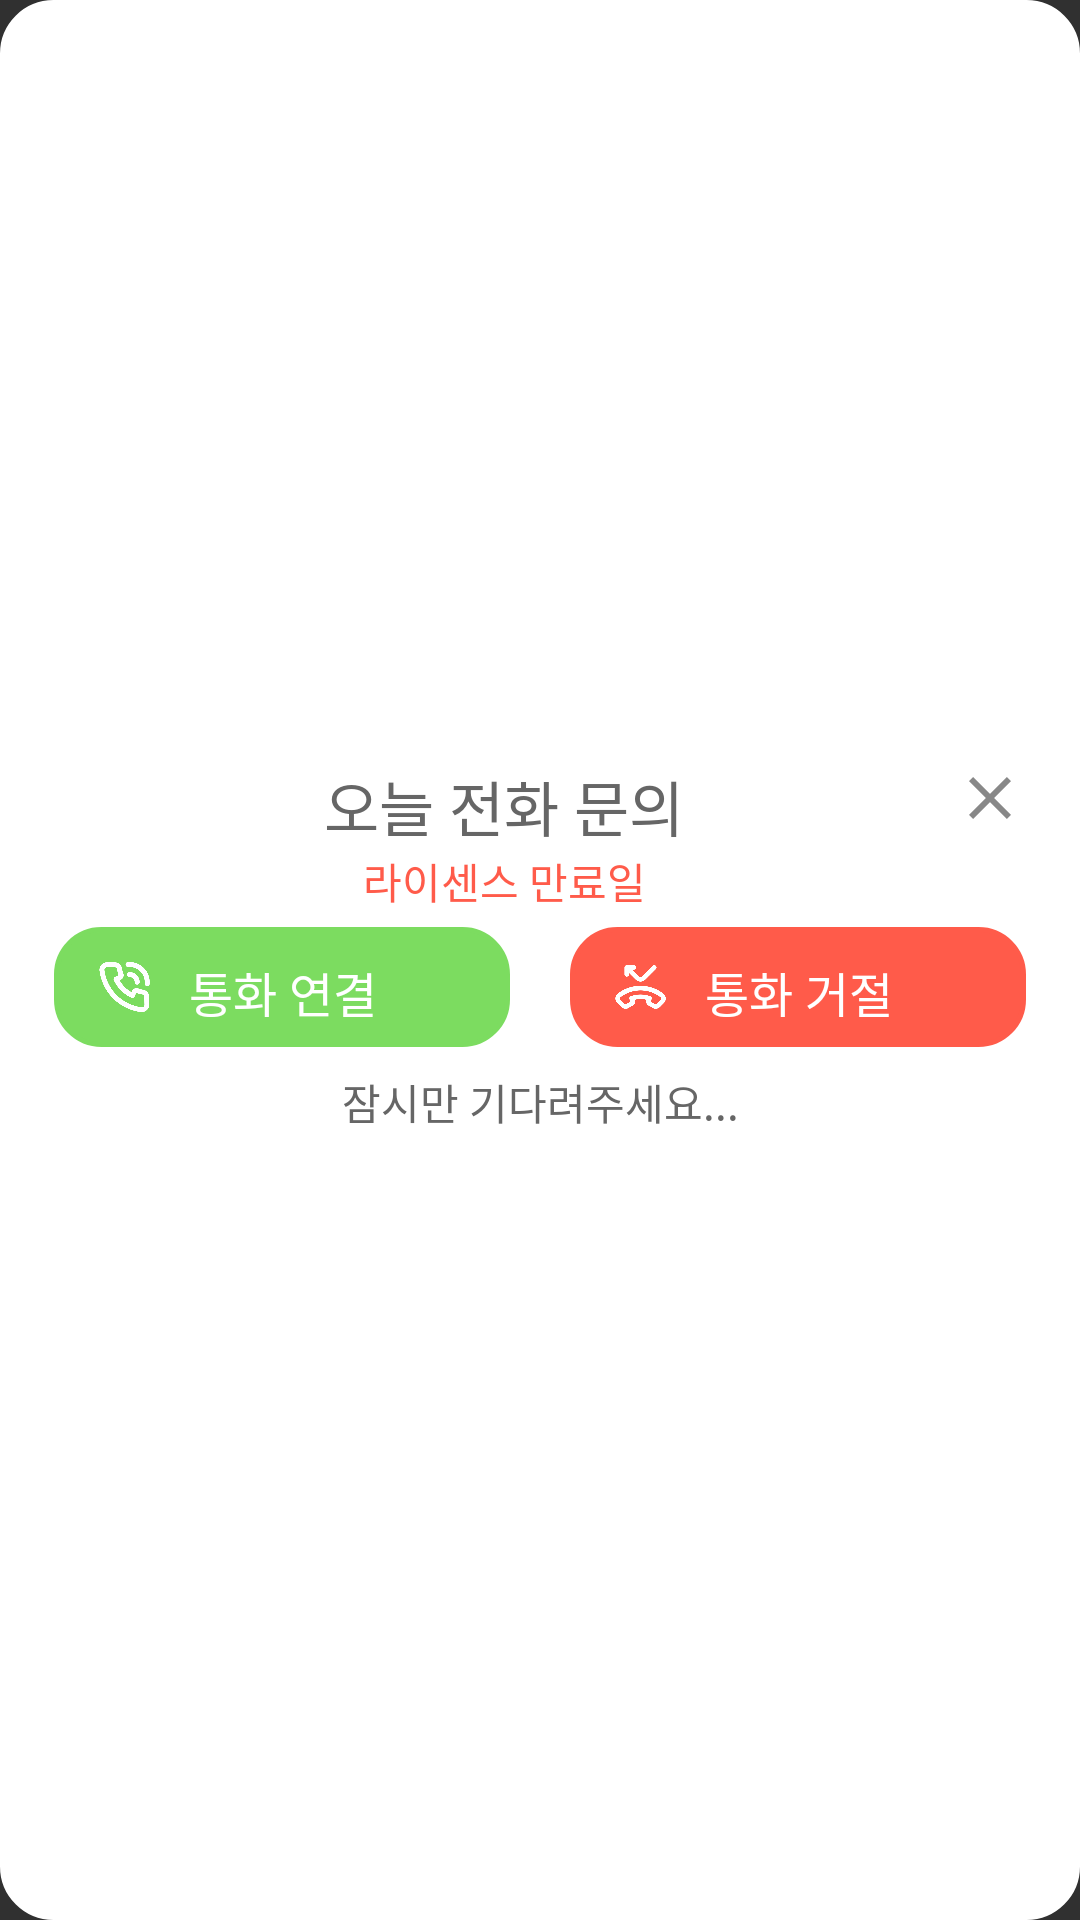

Locate icon controls on the screen. Image size 1080px×1920px, boxes as (x1, y1, x2, y2).
accept call: (99, 962, 150, 1012)
clear: (969, 777, 1011, 819)
reject call: (615, 965, 666, 1009)
